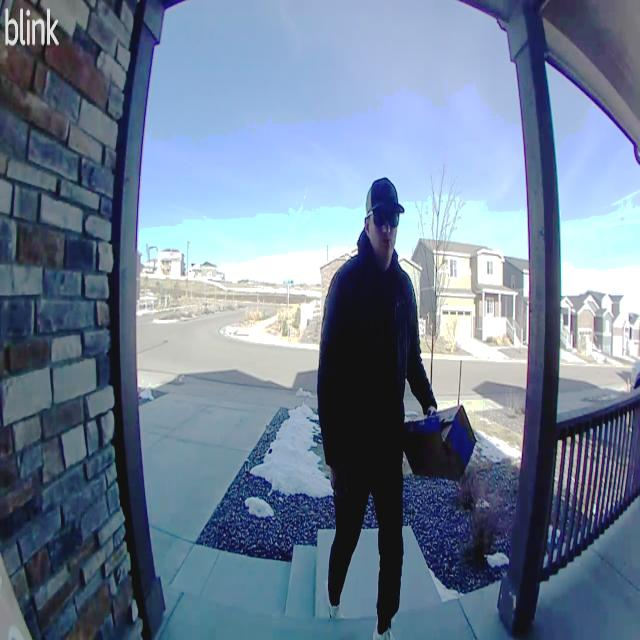Box: (404, 401, 478, 479)
